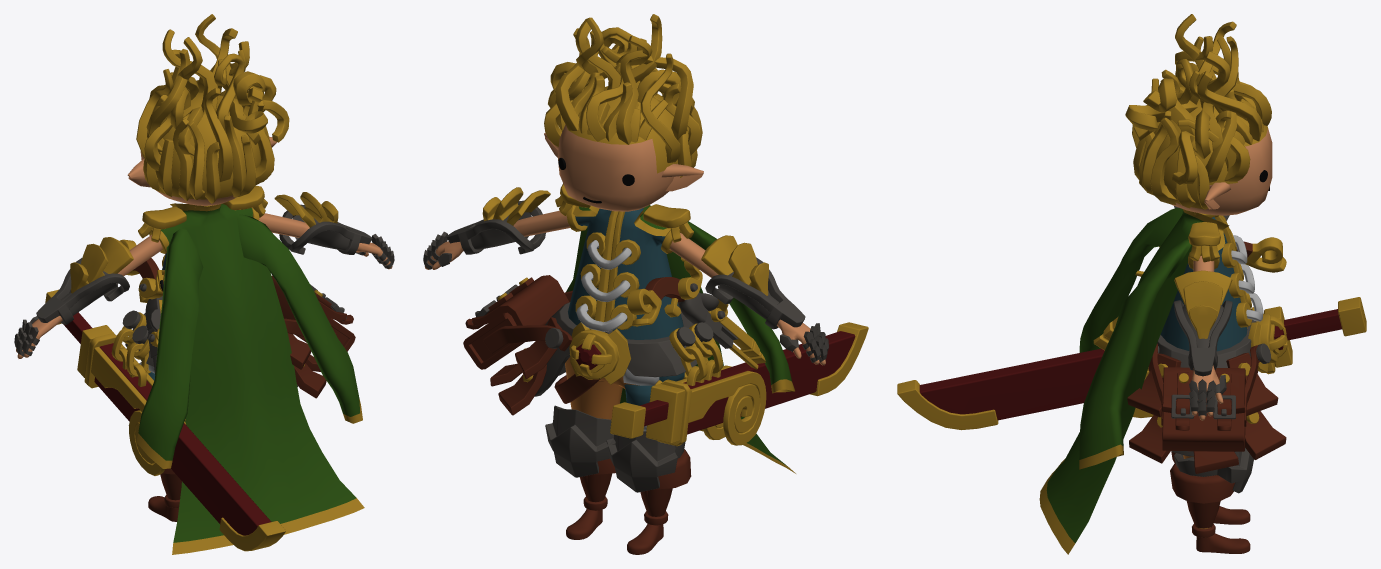
Rendered from AdmiralGear.fbx.
The picture shows the model from 3 angles, left to right: view 1: azimuth 30°, elevation 25°; view 2: azimuth 150°, elevation 25°; view 3: azimuth 270°, elevation 25°; orthographic projection. The views are drawn at different scales.
Visible parts, largest first — view 1: AdmiralGear; view 2: AdmiralGear; view 3: AdmiralGear.
Part boxes in pixels (bbox=[...]): AdmiralGear: bbox=[14, 14, 394, 554]; AdmiralGear: bbox=[423, 14, 868, 554]; AdmiralGear: bbox=[897, 14, 1366, 554].
Bounding box in the file's own units: 95.37 × 118 × 98.09.
